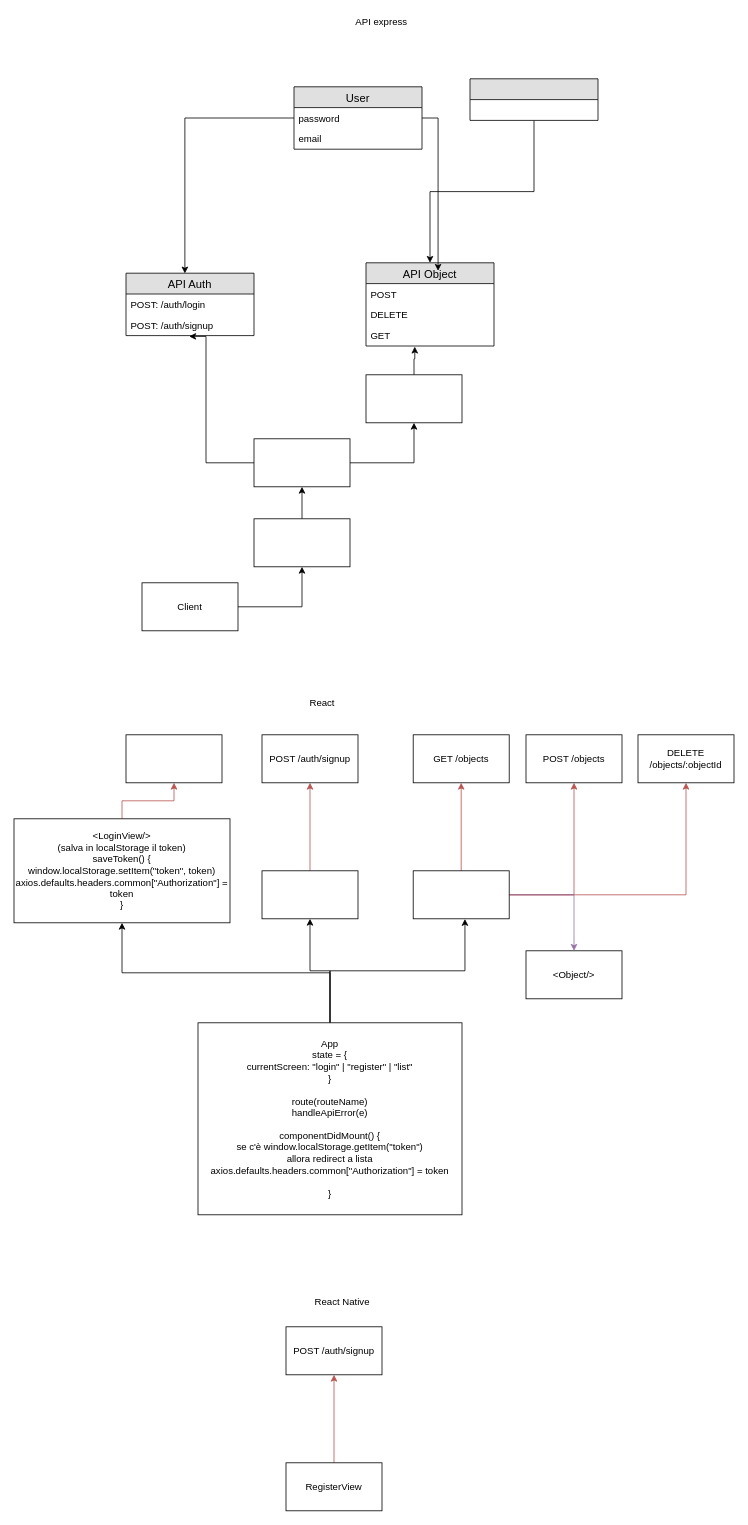
The diagram is 748 pixels wide and 1525 high, and some of its shapes have lost their labels. Each missing label, with the centre of its shape:
<ListView/>: the point at 460,894
<RegisterView/> (salva in localStorage il token): the point at 309,894
AuthMiddleware: the point at 413,398
bodyParser: the point at 301,542
cors: the point at 301,462
Object: the point at 533,99
POST /auth/login: the point at 173,758
